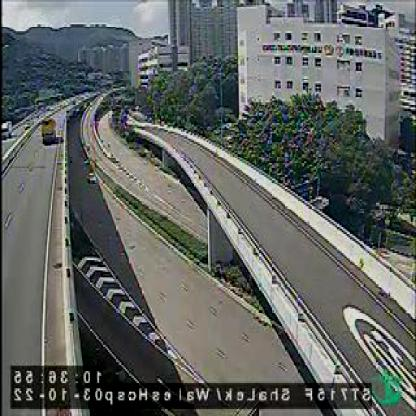Truck: (42, 116, 57, 144)
